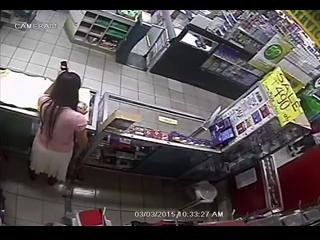Normal: (28, 62, 91, 190)
